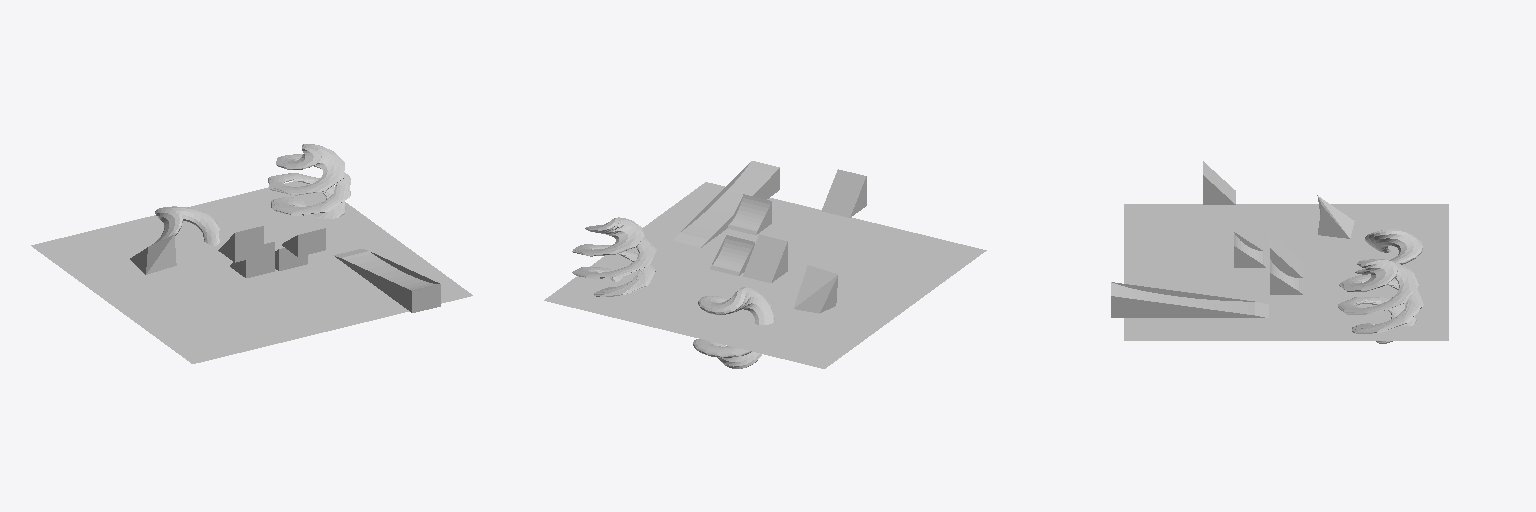
File: BETTER.obj
3 renders of one model, left to right at view 1: azimuth 30°, elevation 25°; view 2: azimuth 150°, elevation 25°; view 3: azimuth 270°, elevation 25°, orthographic.
Parts seen in each view (by area): view 1: Plane, Torus.001, Cube.004, Torus, Cube.003, Cube.005, Cube, Cube.002; view 2: Plane, Torus.001, Cube.004, Torus, Cube.003, Cube, Cube.005, Cube.002, Cube.001; view 3: Plane, Cube.004, Torus.001, Torus, Cube.005, Cube.003, Cube.001, Cube.002, Cube.
Part boxes in pixels (left/top/right/bottom): Plane: left=31, top=181, right=472, bottom=363; Torus.001: left=268, top=144, right=350, bottom=218; Cube.004: left=333, top=249, right=440, bottom=312; Torus: left=152, top=206, right=219, bottom=245; Cube.003: left=218, top=226, right=263, bottom=262; Cube.005: left=130, top=234, right=176, bottom=274; Cube: left=230, top=242, right=274, bottom=277; Cube.002: left=282, top=228, right=325, bottom=256; Plane: left=544, top=182, right=986, bottom=368; Torus.001: left=572, top=217, right=656, bottom=296; Cube.004: left=673, top=161, right=779, bottom=247; Torus: left=693, top=287, right=774, bottom=368; Cube.003: left=822, top=169, right=866, bottom=217; Cube: left=743, top=234, right=787, bottom=282; Cube.005: left=794, top=265, right=837, bottom=313; Cube.002: left=727, top=194, right=771, bottom=234; Cube.001: left=710, top=235, right=754, bottom=275; Plane: left=1124, top=204, right=1448, bottom=340; Cube.004: left=1111, top=282, right=1268, bottom=317; Torus.001: left=1338, top=259, right=1423, bottom=343; Torus: left=1355, top=229, right=1422, bottom=274; Cube.005: left=1317, top=195, right=1354, bottom=238; Cube.003: left=1203, top=161, right=1235, bottom=204; Cube.001: left=1270, top=259, right=1302, bottom=294; Cube.002: left=1234, top=232, right=1266, bottom=267; Cube: left=1270, top=234, right=1302, bottom=277.
Bounding box in the file's own units: 344 × 154 × 356.